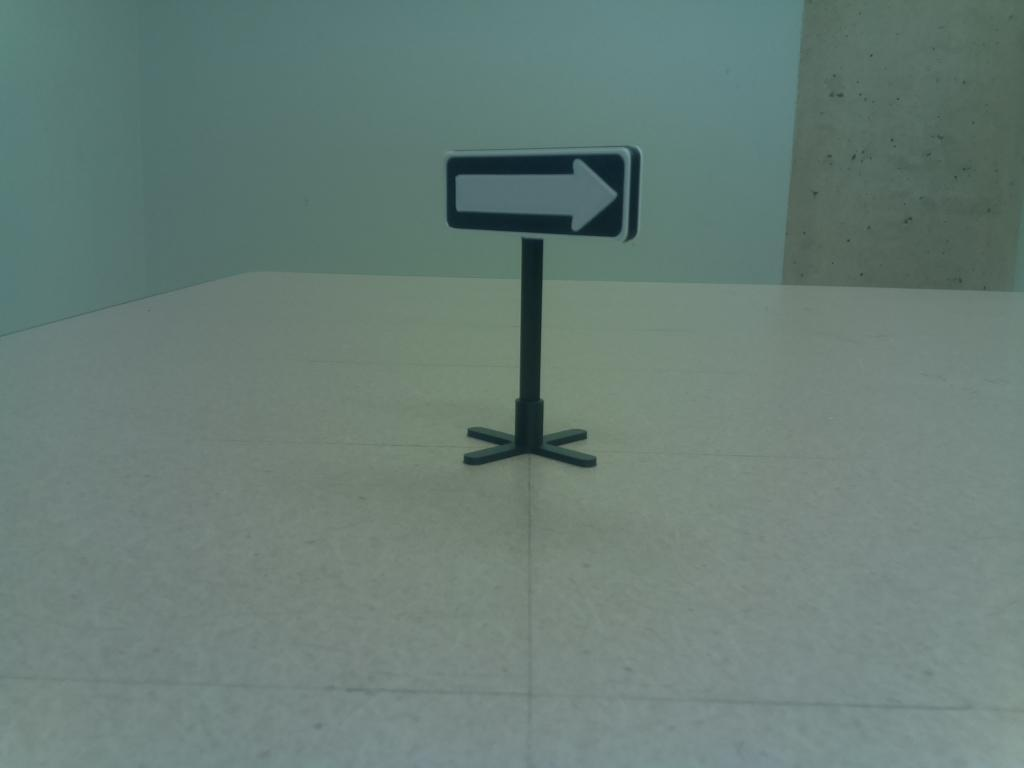sign_oneway_right: (440, 142, 646, 245)
